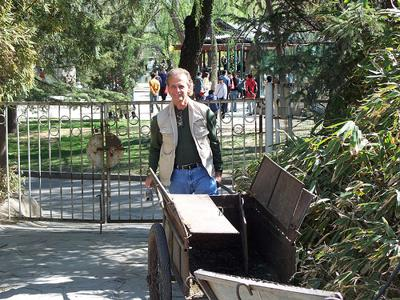person: (144, 70, 226, 284)
